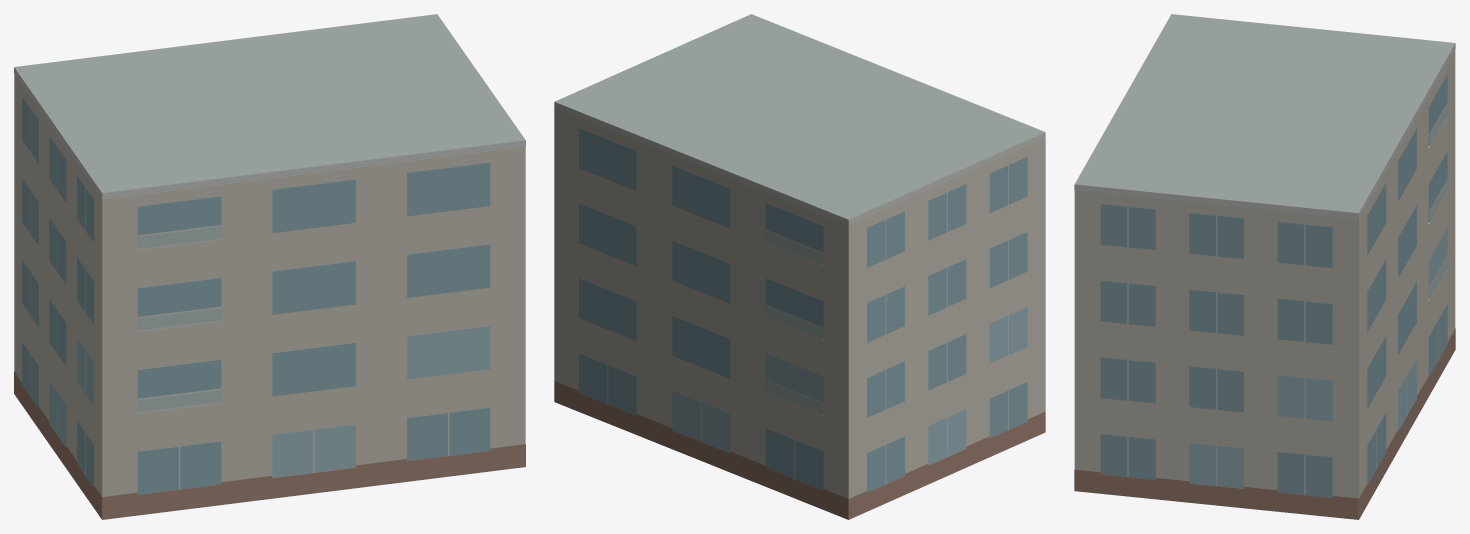
Rendered from residential-a10288d5-4c8f-4b3c-b8bd-bc6d04ece4c4.glb.
3 renders of one model, left to right at view 1: azimuth 30°, elevation 25°; view 2: azimuth 150°, elevation 25°; view 3: azimuth 270°, elevation 25°, orthographic. The views are drawn at different scales.
Visible parts, largest first — view 1: residential-a10288d5-4c8f-4b3c-b8bd-bc6d04ece4c4.tmp; view 2: residential-a10288d5-4c8f-4b3c-b8bd-bc6d04ece4c4.tmp; view 3: residential-a10288d5-4c8f-4b3c-b8bd-bc6d04ece4c4.tmp.
Part boxes in pixels (bbox=[...]): residential-a10288d5-4c8f-4b3c-b8bd-bc6d04ece4c4.tmp: bbox=[14, 14, 525, 519]; residential-a10288d5-4c8f-4b3c-b8bd-bc6d04ece4c4.tmp: bbox=[554, 14, 1045, 519]; residential-a10288d5-4c8f-4b3c-b8bd-bc6d04ece4c4.tmp: bbox=[1074, 14, 1455, 519].
Size of the model in its own units: 17.01 by 12.2 by 13.75.
